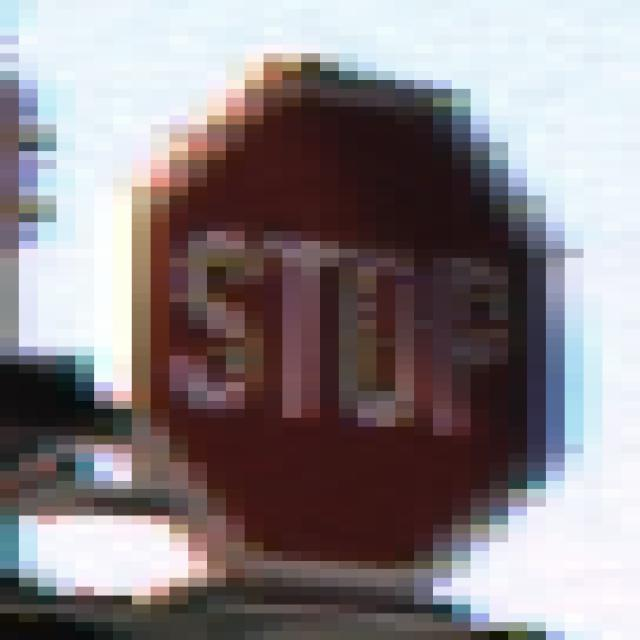STOP: (114, 63, 547, 588)
